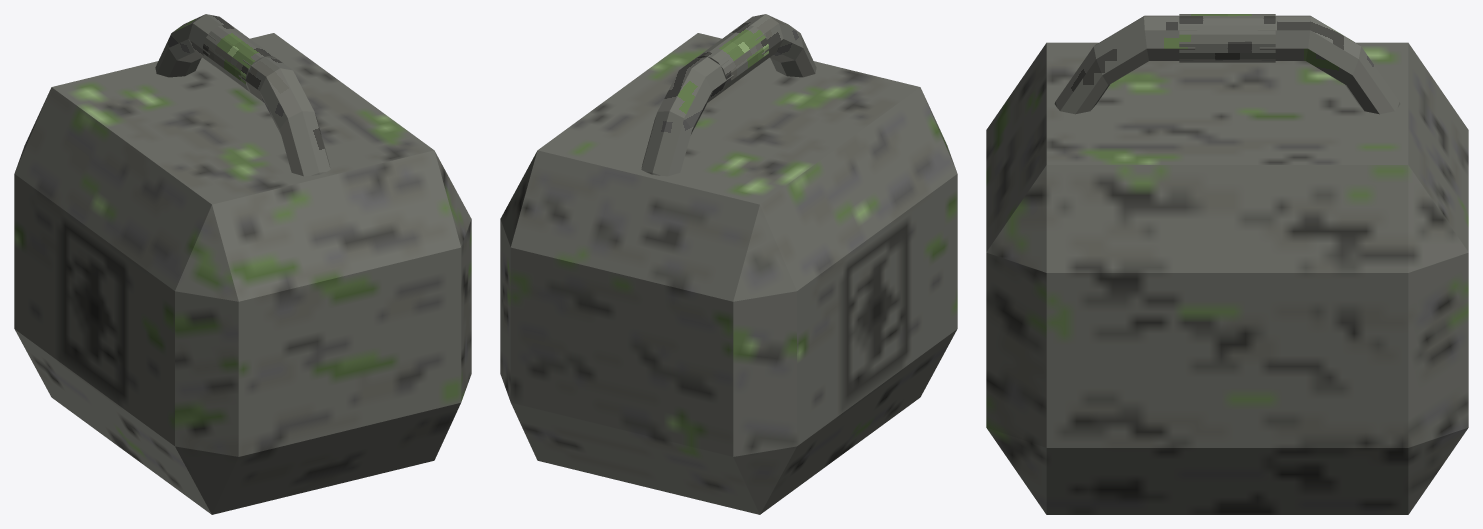
Rendered from Ishi OmoiIshi.fbx.
The picture shows the model from 3 angles, left to right: view 1: azimuth 30°, elevation 25°; view 2: azimuth 150°, elevation 25°; view 3: azimuth 270°, elevation 25°; orthographic projection. The views are drawn at different scales.
Visible parts, largest first — view 1: beveled_cuboid, torus, torus_1, tube; view 2: beveled_cuboid, torus_1, torus, tube; view 3: beveled_cuboid, torus, torus_1, tube.
Part boxes in pixels (bbox=[...]): beveled_cuboid: bbox=[14, 33, 471, 514]; torus: bbox=[238, 57, 330, 176]; torus_1: bbox=[155, 14, 231, 77]; tube: bbox=[203, 24, 276, 92]; beveled_cuboid: bbox=[500, 33, 957, 514]; torus_1: bbox=[641, 57, 733, 176]; torus: bbox=[740, 14, 816, 77]; tube: bbox=[695, 24, 768, 92]; beveled_cuboid: bbox=[986, 42, 1468, 514]; torus: bbox=[1054, 15, 1197, 114]; torus_1: bbox=[1257, 15, 1400, 114]; tube: bbox=[1179, 14, 1275, 62].
Bounding box in the file's own units: 100 × 125 × 125.
4 materials, 4 textured.
